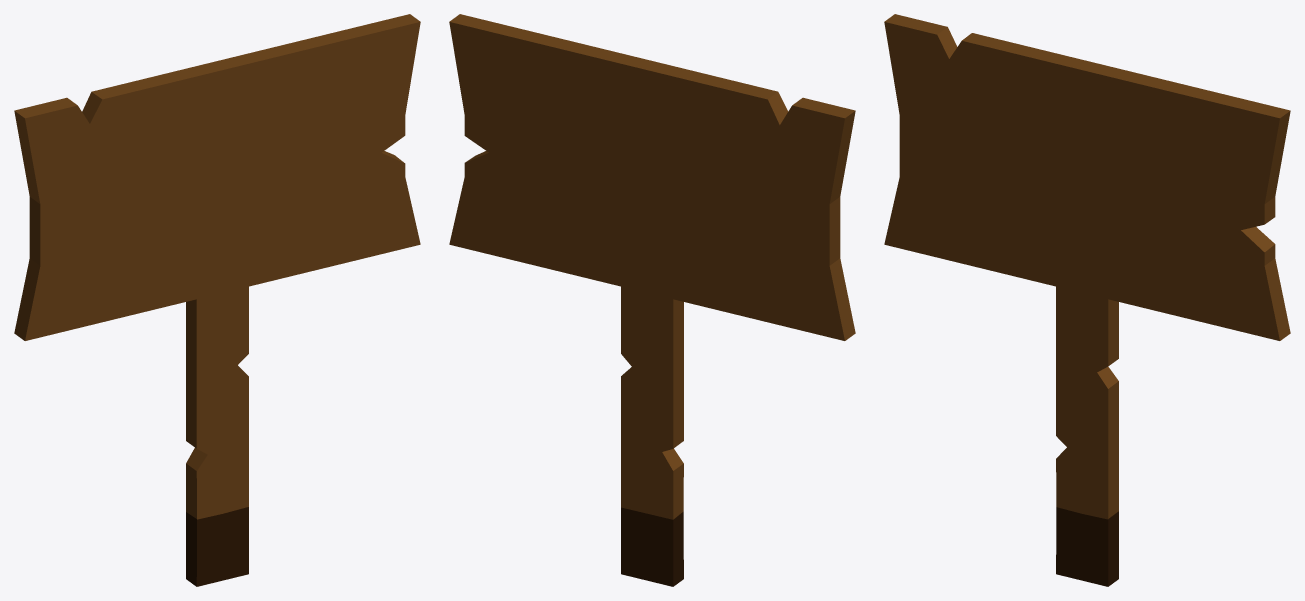
Rendered from Carteles.fbx.
The picture shows the model from 3 angles, left to right: view 1: azimuth 30°, elevation 25°; view 2: azimuth 150°, elevation 25°; view 3: azimuth 330°, elevation 25°; orthographic projection.
Parts seen in each view (by area): view 1: Cube; view 2: Cube; view 3: Cube.
Part boxes in pixels (x1,y1,x2,y2): Cube: [14, 14, 420, 586]; Cube: [449, 14, 855, 586]; Cube: [884, 14, 1290, 586].
Size of the model in its own units: 434 by 535 by 20.64.
